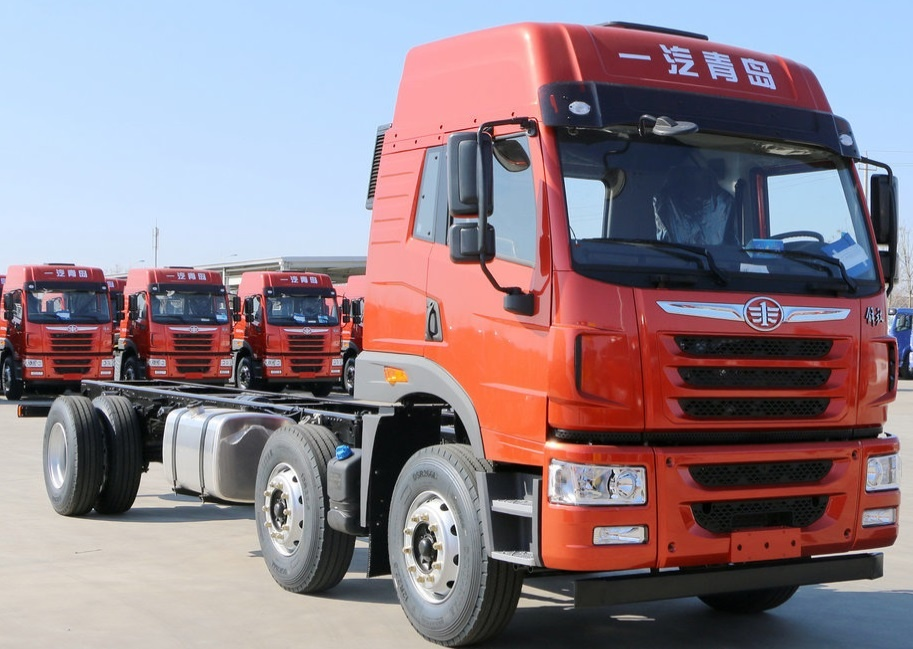heavy truck: (64, 22, 892, 627), (118, 261, 246, 393), (7, 252, 108, 401), (237, 275, 345, 390)
